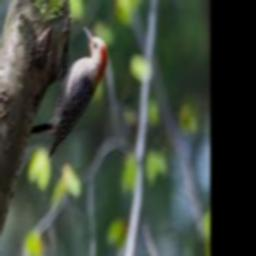Woodpecker: (29, 23, 107, 157)
